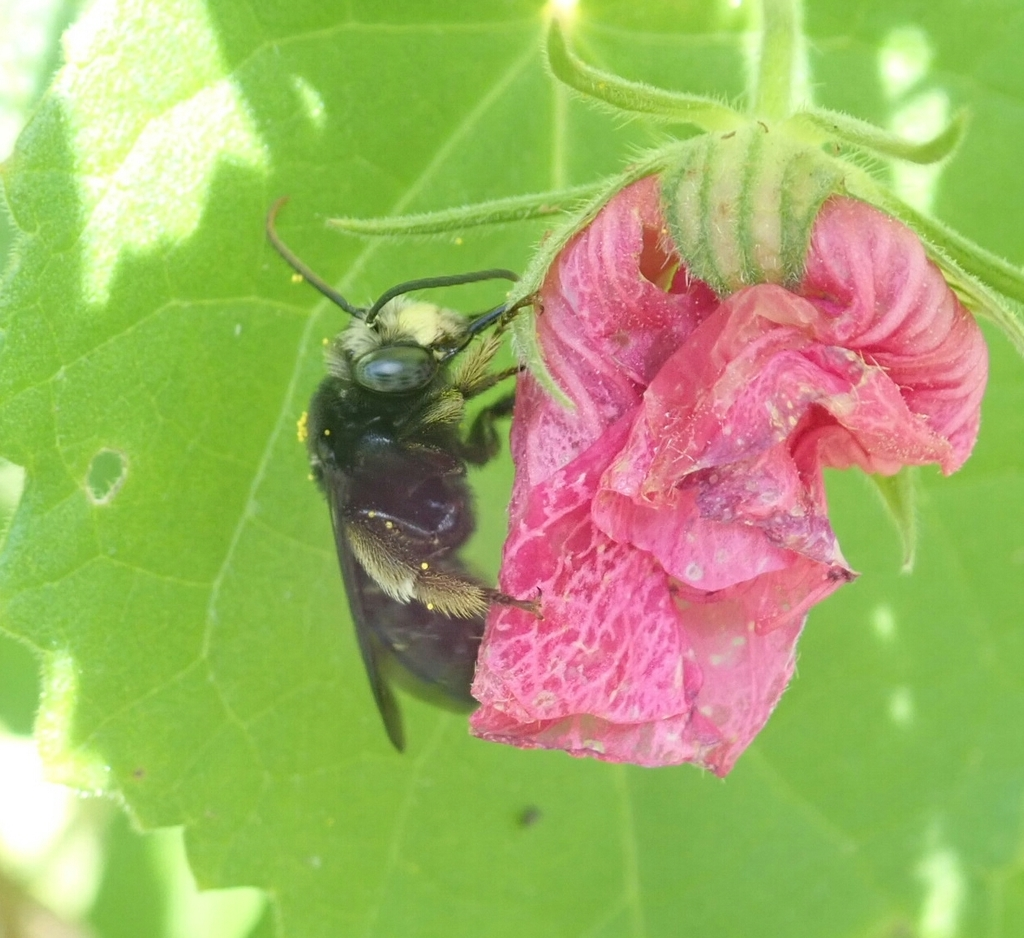not_bumblebee: (258, 193, 551, 754)
